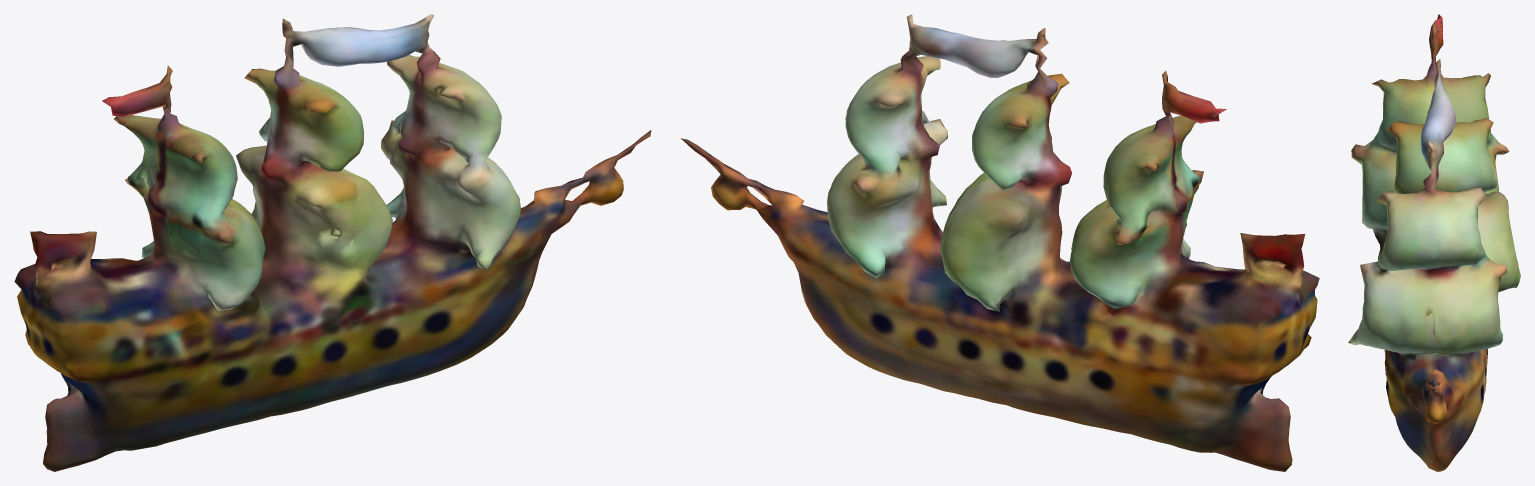
The model's file is ship4.glb.
3 views of the same model, side by side, from view 1: azimuth 30°, elevation 25°; view 2: azimuth 150°, elevation 25°; view 3: azimuth 270°, elevation 25° (orthographic). The views are drawn at different scales.
Visible parts, largest first — view 1: Mesh1.001; view 2: Mesh1.001; view 3: Mesh1.001.
Part boxes in pixels (x1=…): Mesh1.001: x1=14, y1=14, x2=651, y2=471; Mesh1.001: x1=681, y1=14, x2=1319, y2=471; Mesh1.001: x1=1348, y1=14, x2=1520, y2=471.
Size of the model in its own units: 4.04 by 2.42 by 1.11.
1 material, 1 textured.
